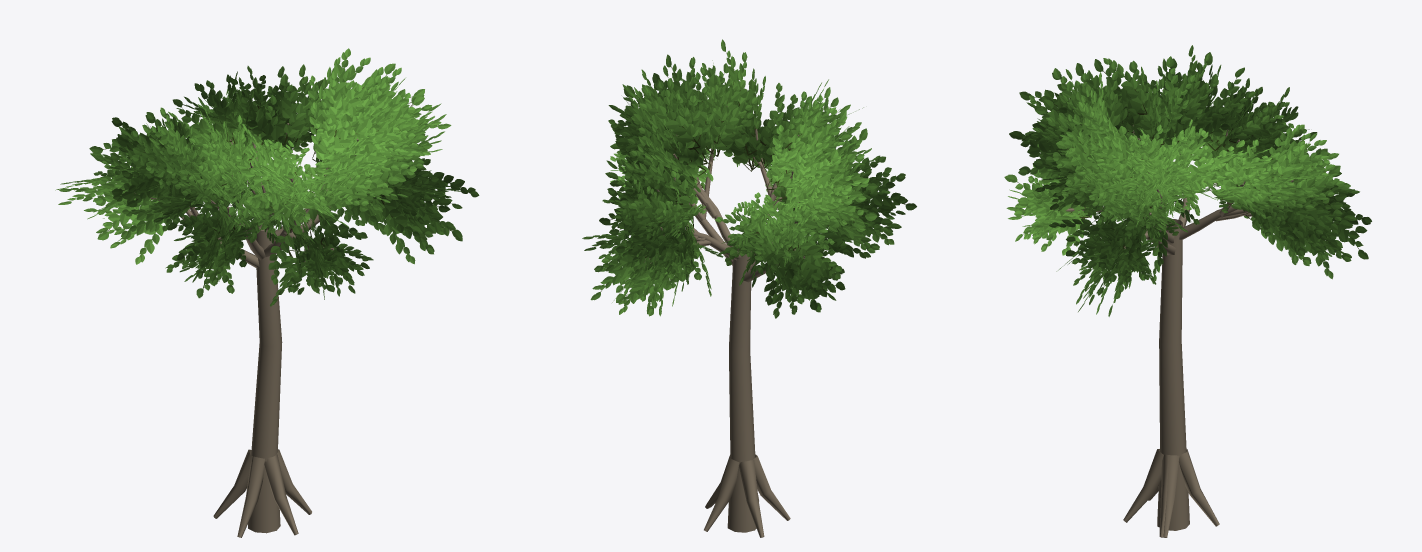
File: jungle_tree_2_mid.glb
The picture shows the model from 3 angles, left to right: view 1: azimuth 30°, elevation 25°; view 2: azimuth 150°, elevation 25°; view 3: azimuth 270°, elevation 25°; orthographic projection. The views are drawn at different scales.
Visible parts, largest first — view 1: jungle_tree_2_mid; view 2: jungle_tree_2_mid; view 3: jungle_tree_2_mid.
Part boxes in pixels (box(x1,y1,x2,y2)): jungle_tree_2_mid: box(55, 48, 479, 537); jungle_tree_2_mid: box(582, 39, 916, 537); jungle_tree_2_mid: box(1004, 45, 1371, 537).
Size of the model in its own units: 14.76 by 18.19 by 14.28.
Materials: 2 (1 with a texture image).
